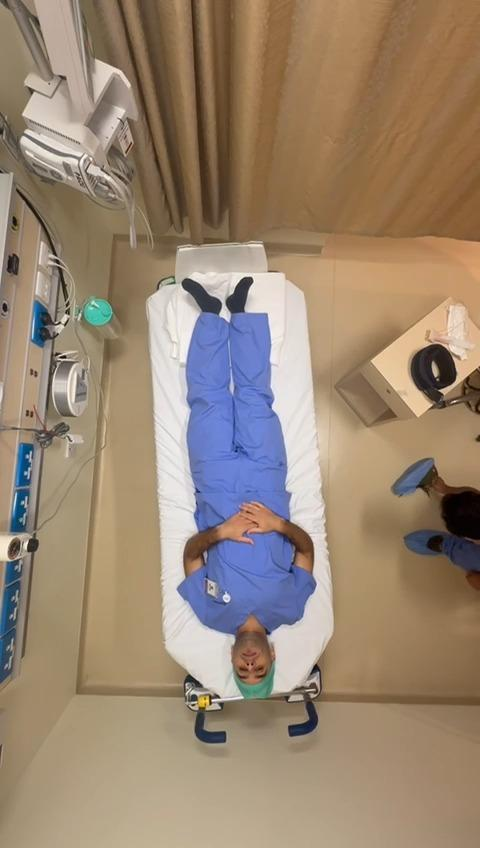bed: (147, 243, 335, 742)
patient: (177, 278, 316, 696)
tourniquet: (411, 344, 457, 402)
